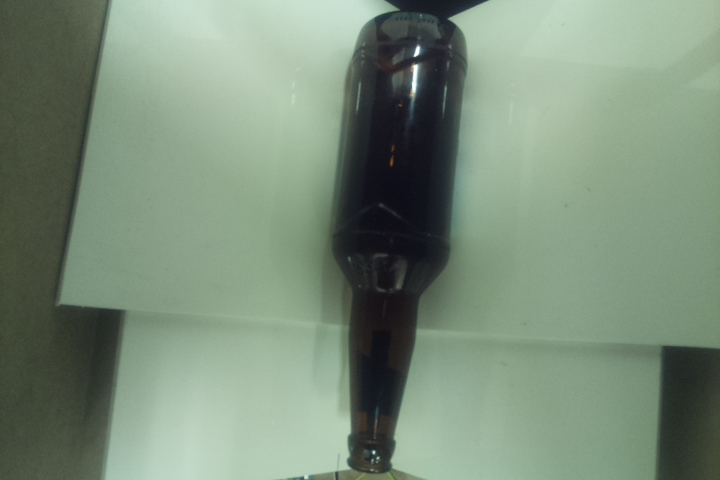makju: (329, 9, 469, 474)
